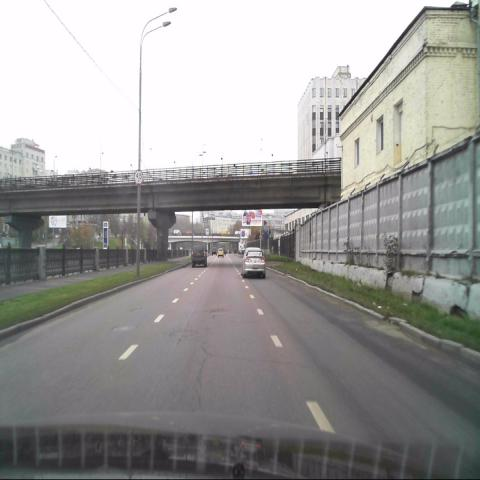3_13: (134, 170, 143, 186)
